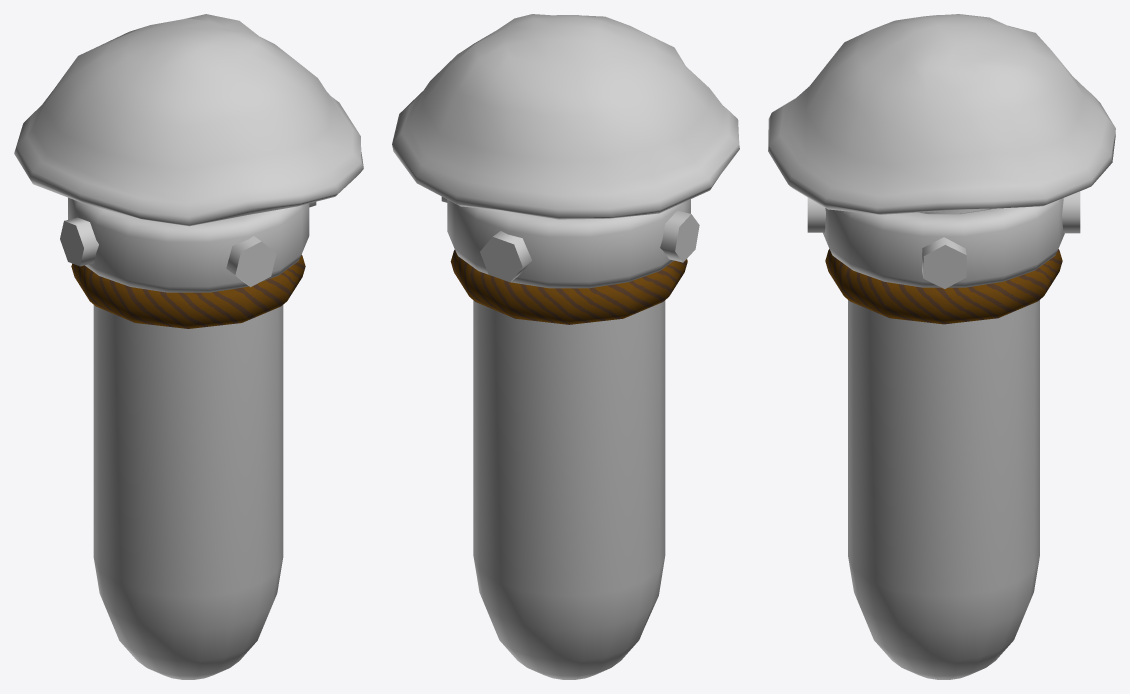
Rendered from The Gud Stuff.fbx.
3 views of the same model, side by side, from view 1: azimuth 30°, elevation 25°; view 2: azimuth 150°, elevation 25°; view 3: azimuth 270°, elevation 25° (orthographic).
Parts seen in each view (by area): view 1: poti lvl 1 low; view 2: poti lvl 1 low; view 3: poti lvl 1 low.
Part boxes in pixels (box(x1,y1,x2,y2)): poti lvl 1 low: box(14, 14, 363, 679); poti lvl 1 low: box(392, 14, 739, 679); poti lvl 1 low: box(768, 14, 1115, 679).
Bounding box in the file's own units: 283 × 575 × 281.
